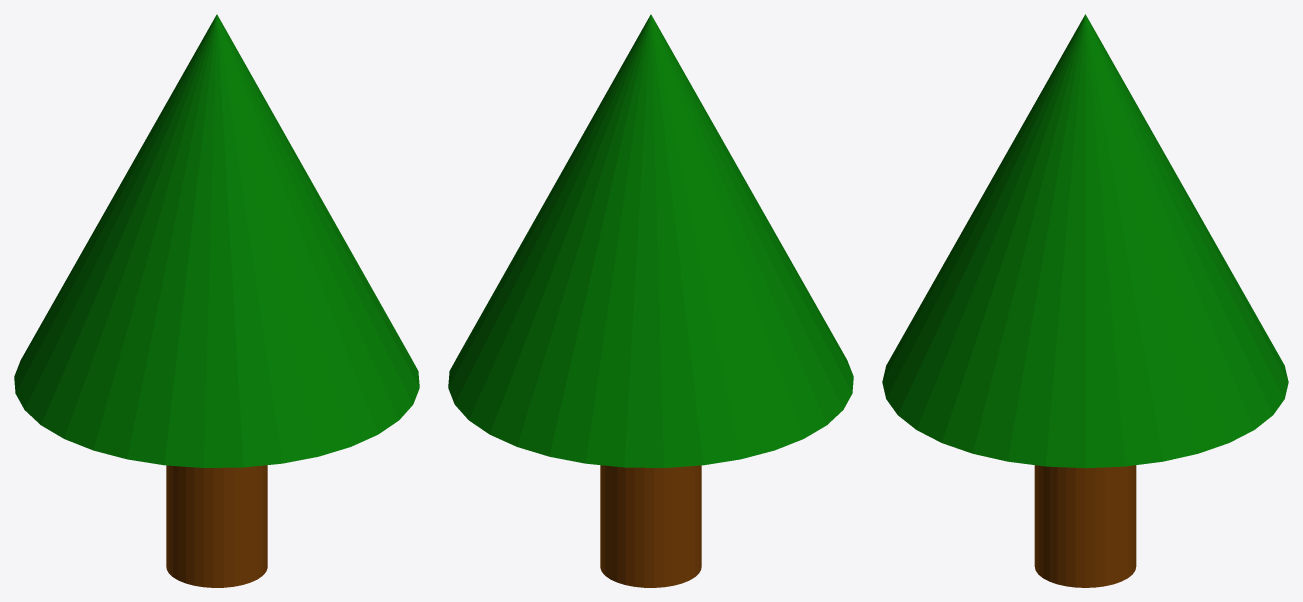
Rendered from tree.fbx.
3 views of the same model, side by side, from view 1: azimuth 30°, elevation 25°; view 2: azimuth 150°, elevation 25°; view 3: azimuth 270°, elevation 25° (orthographic).
Parts seen in each view (by area): view 1: Cone, Cylinder; view 2: Cone, Cylinder; view 3: Cone, Cylinder.
Boxes of the visible parts, left/top/right/bottom form: Cone: left=14, top=14, right=419, bottom=467; Cylinder: left=166, top=465, right=267, bottom=587; Cone: left=448, top=14, right=853, bottom=467; Cylinder: left=600, top=465, right=701, bottom=587; Cone: left=882, top=14, right=1288, bottom=468; Cylinder: left=1034, top=465, right=1136, bottom=587.
Size of the model in its own units: 100 by 150 by 100.
Materials: 2 (2 with a texture image).
